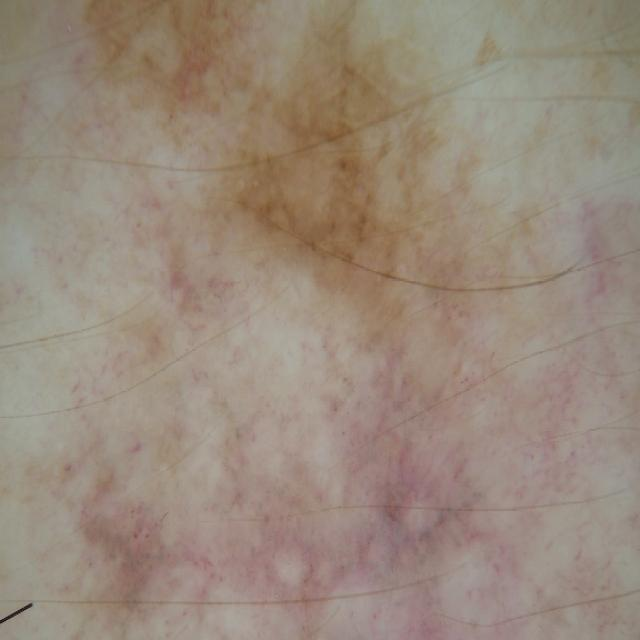Melanoma: (72, 168, 500, 640)
